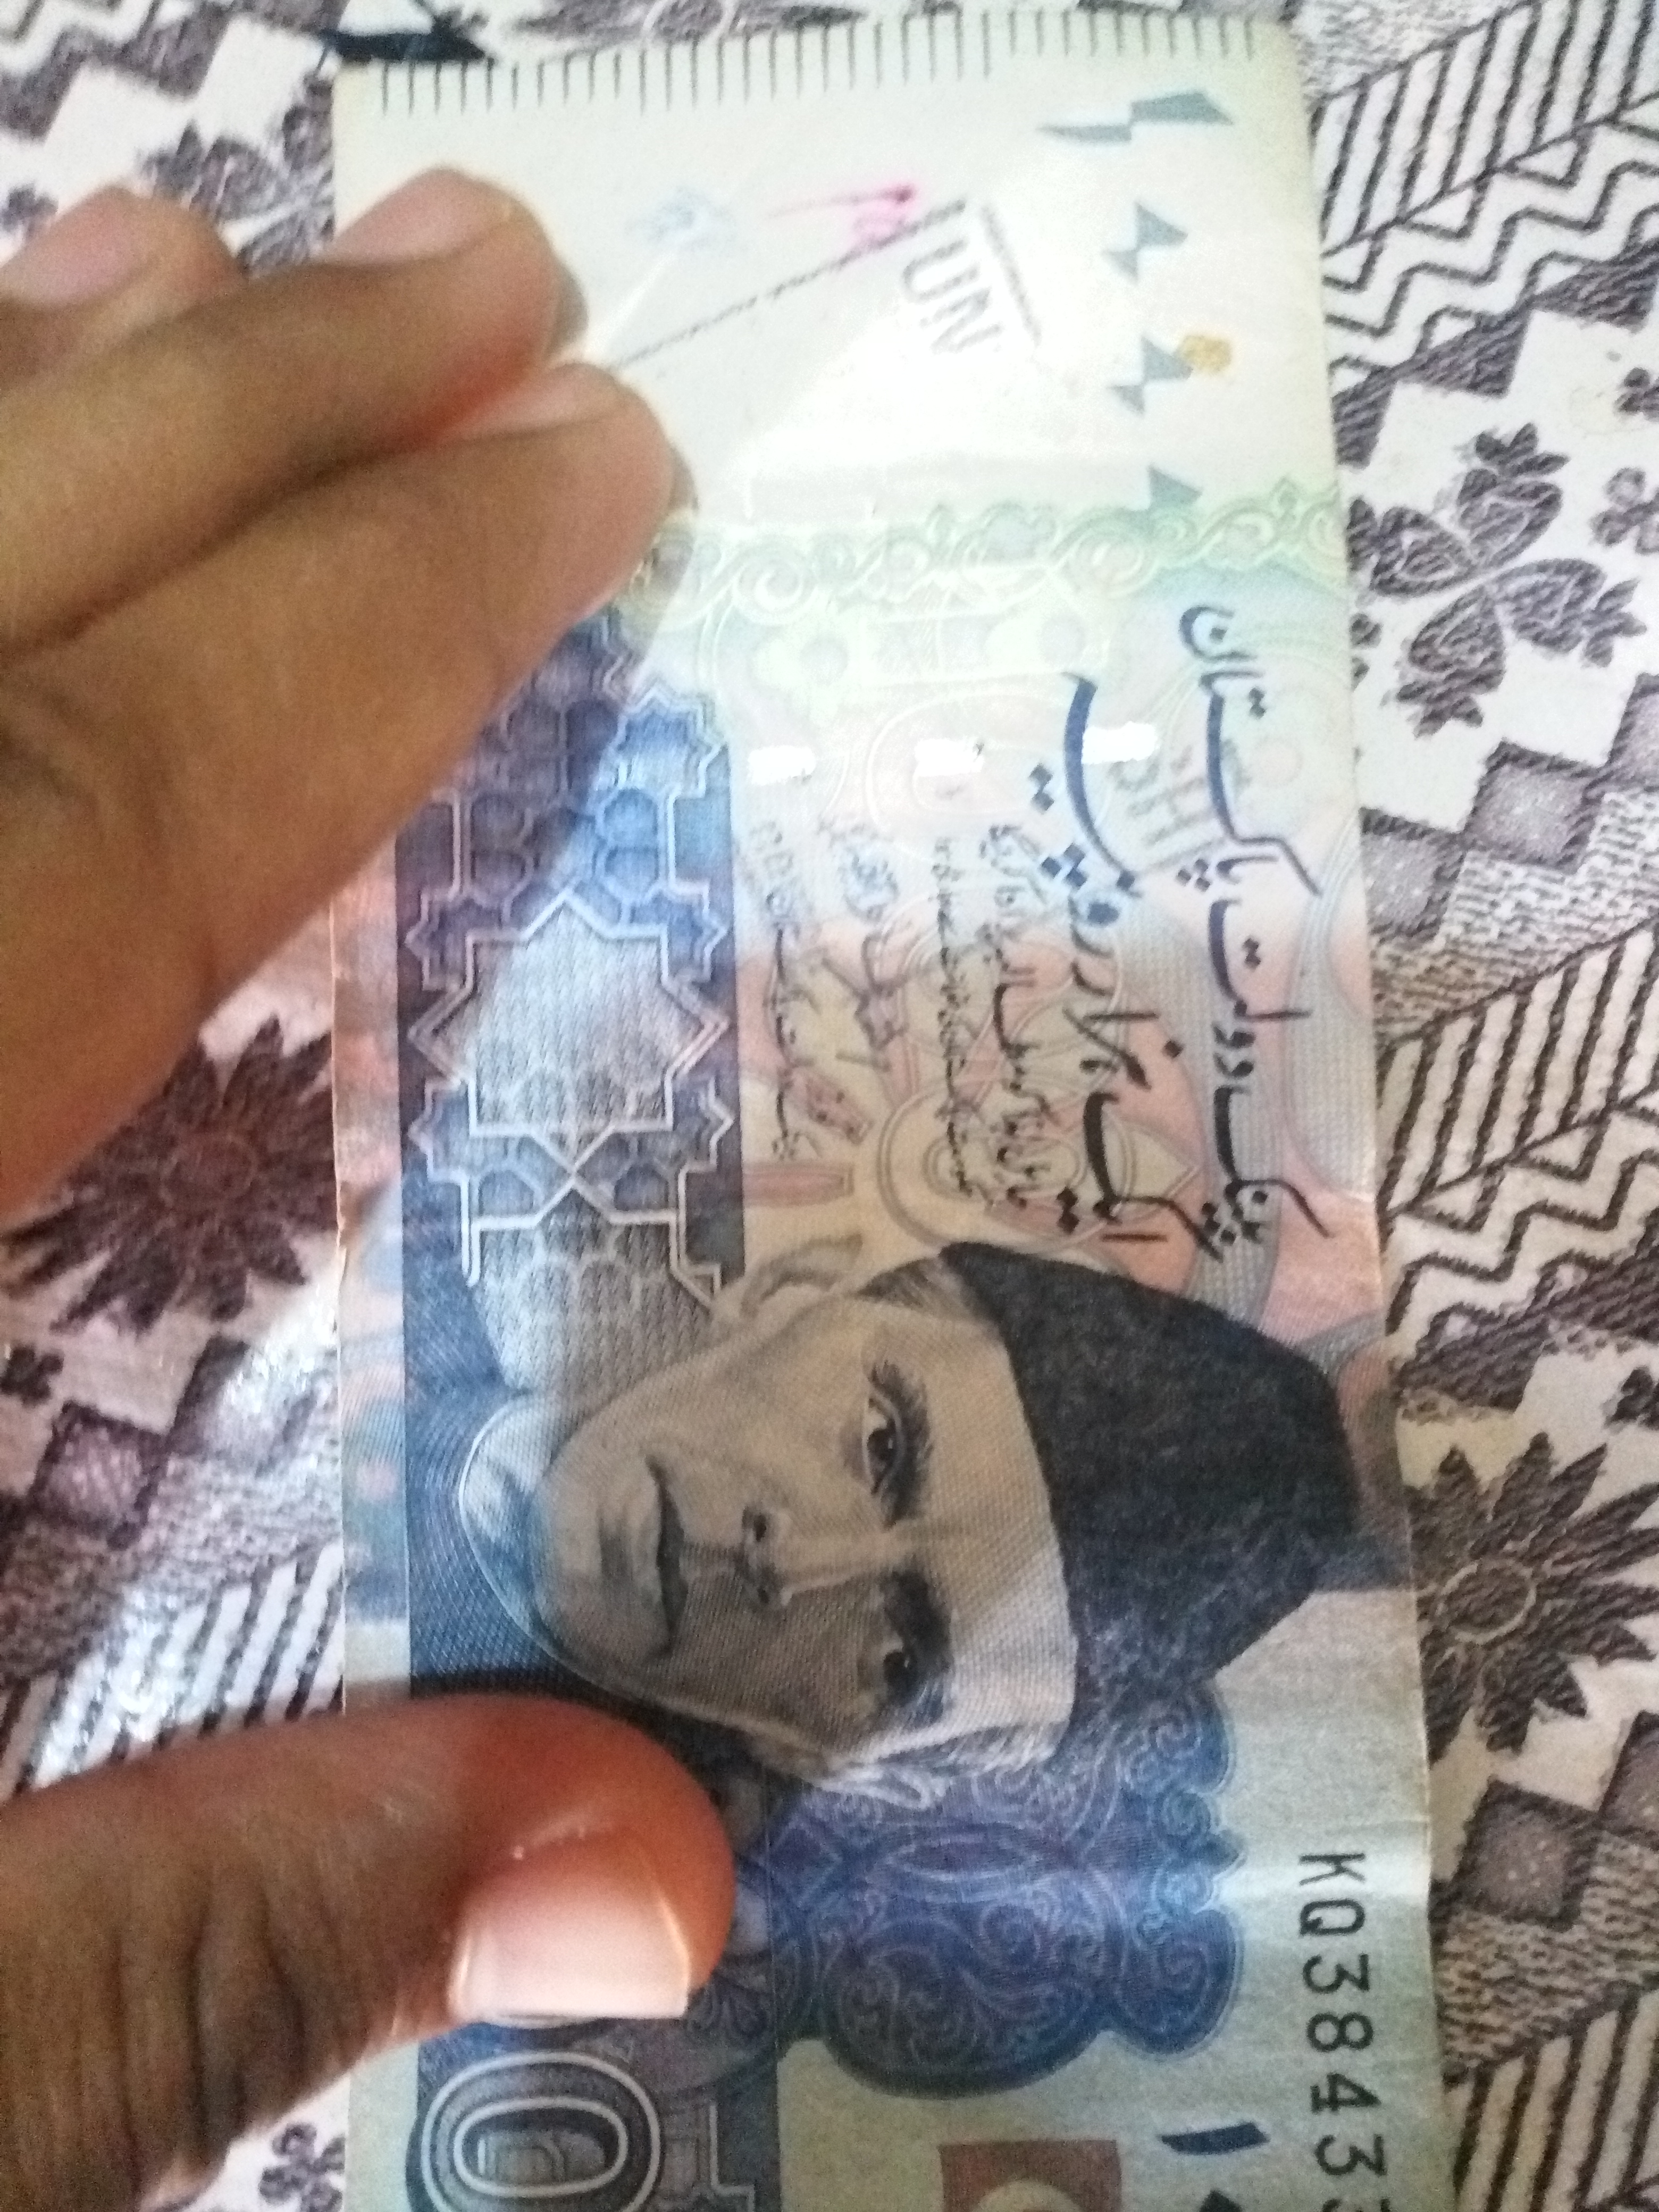1000 rupee: (274, 23, 1601, 2212)
